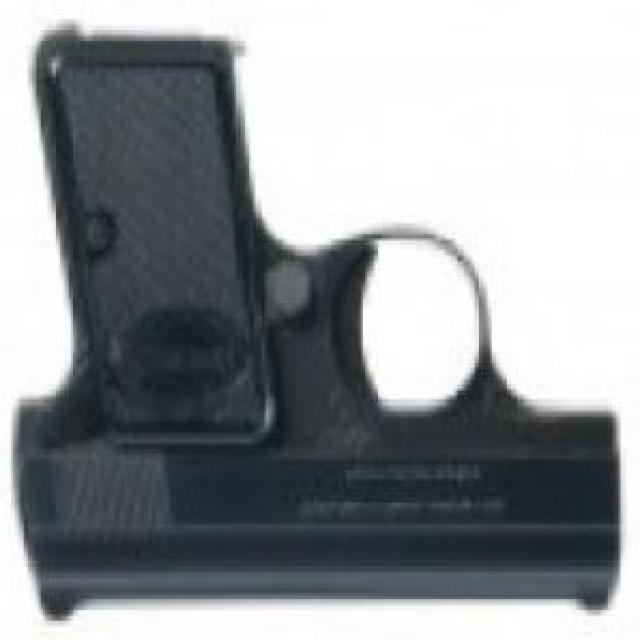pistol: (19, 34, 623, 625)
